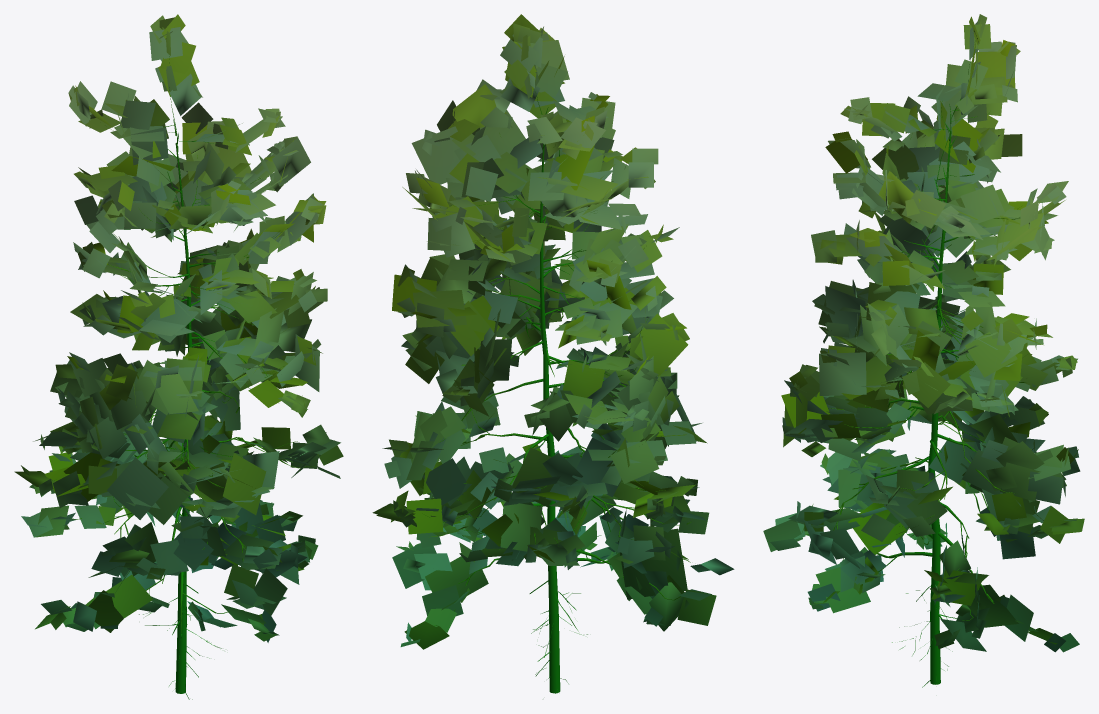
The model's file is pine_sapling_medium_0.glb.
3 renders of one model, left to right at view 1: azimuth 30°, elevation 25°; view 2: azimuth 150°, elevation 25°; view 3: azimuth 270°, elevation 25°, orthographic. The views are drawn at different scales.
Visible parts, largest first — view 1: pine_sapling_medium_0_cards, pine_sapling_medium_0_trunk; view 2: pine_sapling_medium_0_cards, pine_sapling_medium_0_trunk; view 3: pine_sapling_medium_0_cards, pine_sapling_medium_0_trunk.
Part boxes in pixels (x1,y1,x2,y2): pine_sapling_medium_0_cards: (14, 14, 343, 642); pine_sapling_medium_0_trunk: (51, 56, 315, 699); pine_sapling_medium_0_cards: (372, 14, 734, 649); pine_sapling_medium_0_trunk: (423, 89, 691, 693); pine_sapling_medium_0_cards: (763, 14, 1084, 652); pine_sapling_medium_0_trunk: (805, 40, 1037, 687).
Bounding box in the file's own units: 5.27 × 11.63 × 4.95.
